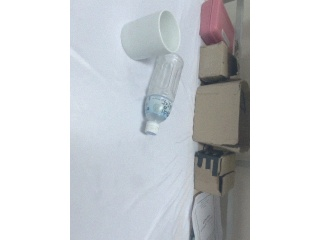bottle: (142, 53, 184, 136)
box: (193, 80, 250, 152), (194, 146, 235, 196)
cup: (120, 9, 181, 61)
